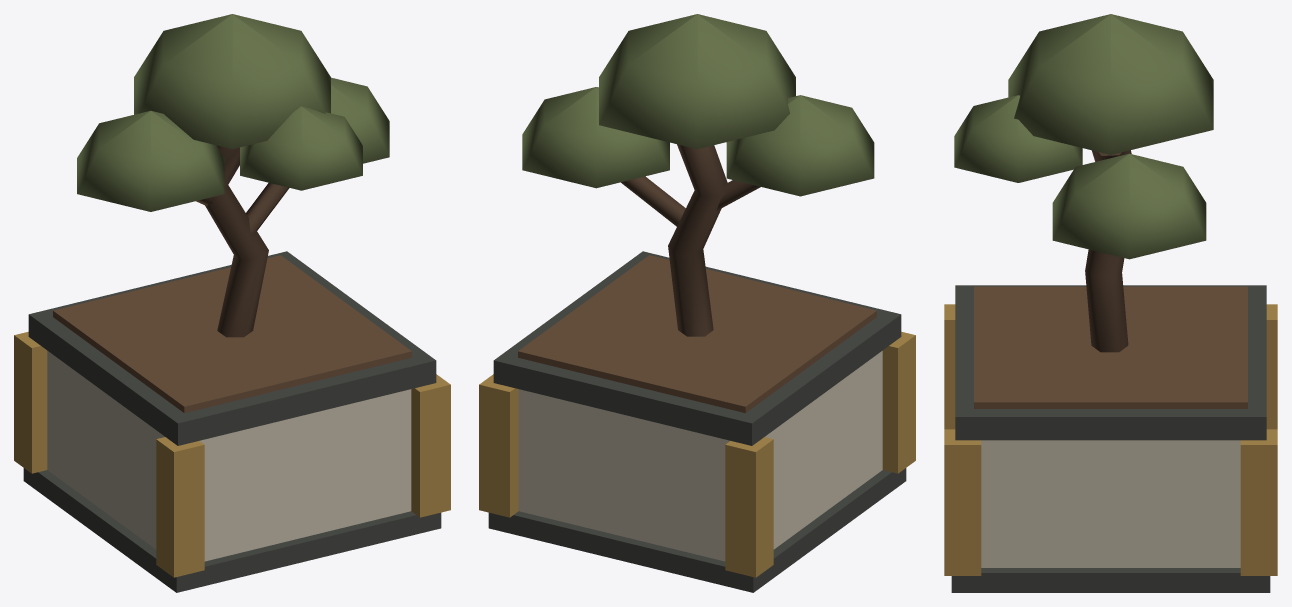
The model's file is pot_shrub.glb.
3 views of the same model, side by side, from view 1: azimuth 30°, elevation 25°; view 2: azimuth 150°, elevation 25°; view 3: azimuth 270°, elevation 25° (orthographic). The views are drawn at different scales.
Visible parts, largest first — view 1: pot_shrub; view 2: pot_shrub; view 3: pot_shrub.
Boxes of the visible parts, x1,y1,x2,y2 form: pot_shrub: (14, 14, 450, 592); pot_shrub: (479, 14, 915, 592); pot_shrub: (944, 14, 1277, 592).
Size of the model in its own units: 1.08 by 1.52 by 0.9.
